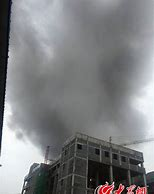smoke: (14, 1, 152, 135)
